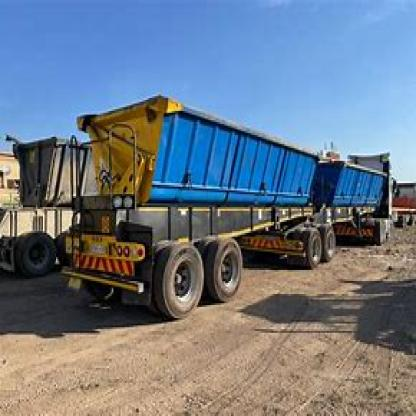dump_truck: (64, 68, 412, 328)
